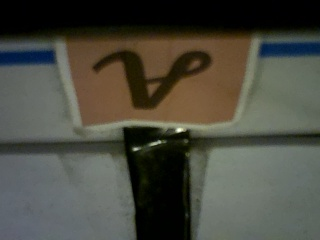A: (65, 40, 237, 123)
